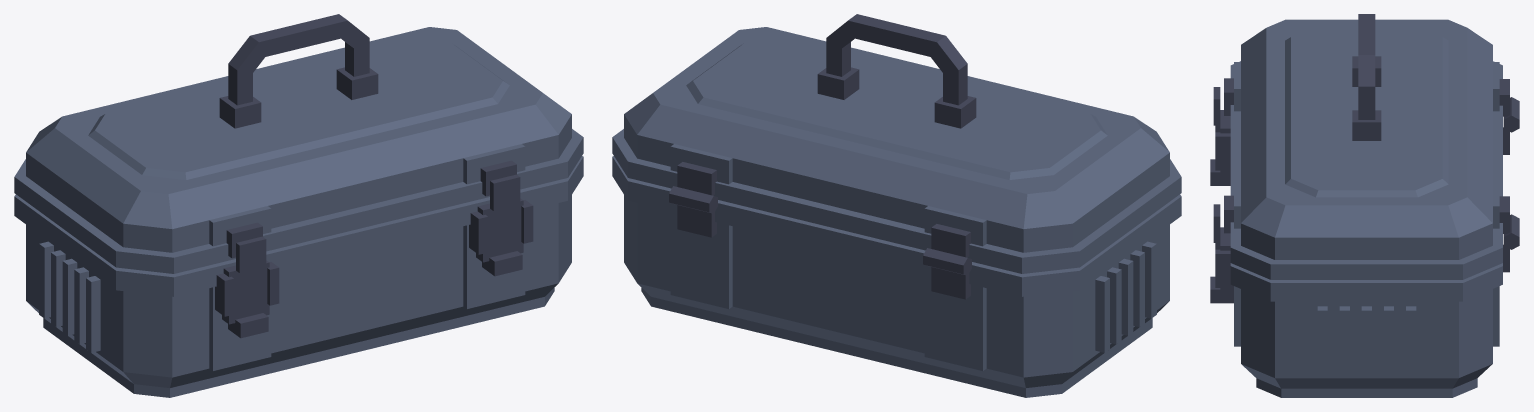
The model's file is tool-case-d92909.glb.
The picture shows the model from 3 angles, left to right: view 1: azimuth 30°, elevation 25°; view 2: azimuth 150°, elevation 25°; view 3: azimuth 270°, elevation 25°; orthographic projection. The views are drawn at different scales.
Parts seen in each view (by area): view 1: lid-matte, case-matte, case-metal, handle-metal, lid-metal; view 2: lid-matte, case-matte, handle-metal, lid-metal, case-metal; view 3: lid-matte, case-matte, case-metal, lid-metal, handle-metal.
Part boxes in pixels (box(x1,y1,x2,y2)): lid-matte: box(14, 27, 583, 273); case-matte: box(14, 156, 583, 397); case-metal: box(215, 174, 533, 338); handle-metal: box(228, 14, 369, 105); lid-metal: box(219, 67, 516, 258); lid-matte: box(612, 27, 1181, 273); case-matte: box(612, 156, 1181, 397); handle-metal: box(826, 14, 967, 105); lid-metal: box(677, 67, 976, 257); case-metal: box(669, 186, 971, 299); lid-matte: box(1230, 19, 1502, 279); case-matte: box(1230, 263, 1502, 397); case-metal: box(1210, 87, 1519, 303); lid-metal: box(1224, 56, 1509, 233); handle-metal: box(1358, 14, 1375, 119).
Bounding box in the file's own units: 0.6 × 0.345 × 0.3635.
